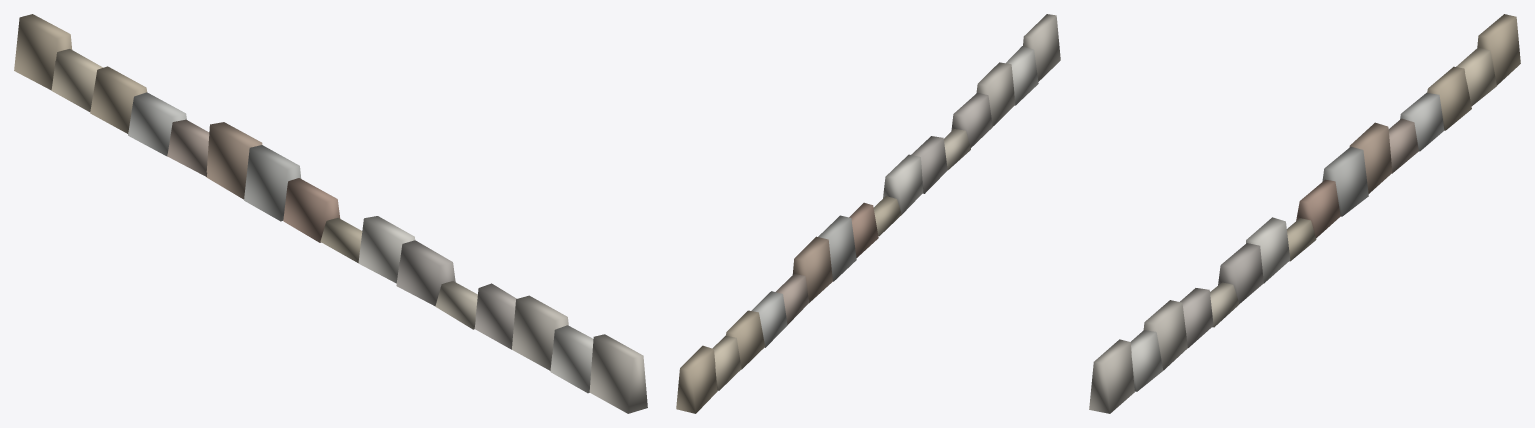
File: farm_14_-2_far.glb
3 views of the same model, side by side, from view 1: azimuth 30°, elevation 25°; view 2: azimuth 150°, elevation 25°; view 3: azimuth 330°, elevation 25° (orthographic). The views are drawn at different scales.
Visible parts, largest first — view 1: geometry_0; view 2: geometry_0; view 3: geometry_0.
Part boxes in pixels (<box>): geometry_0: <box>14,14,647,413</box>; geometry_0: <box>676,14,1060,413</box>; geometry_0: <box>1089,14,1520,413</box>.
Size of the model in its own units: 2.88 by 2.11 by 25.54.
